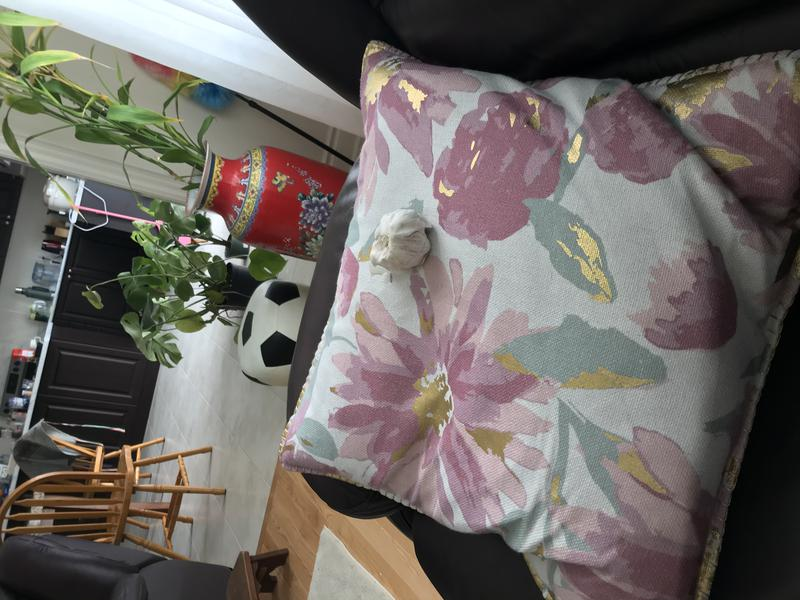garlic: (364, 203, 436, 275)
